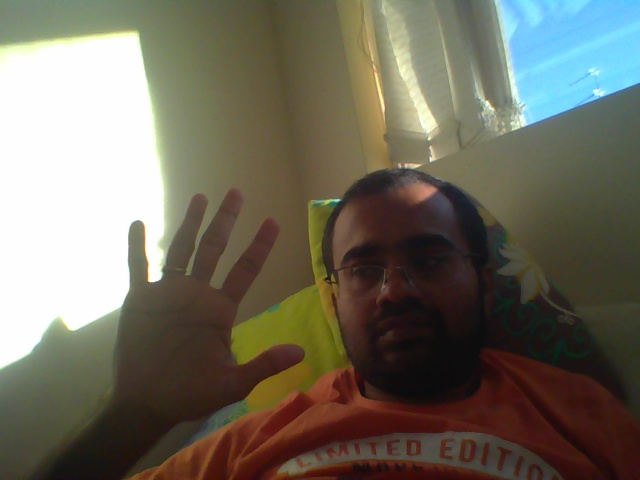LiveLong: (105, 181, 309, 418)
